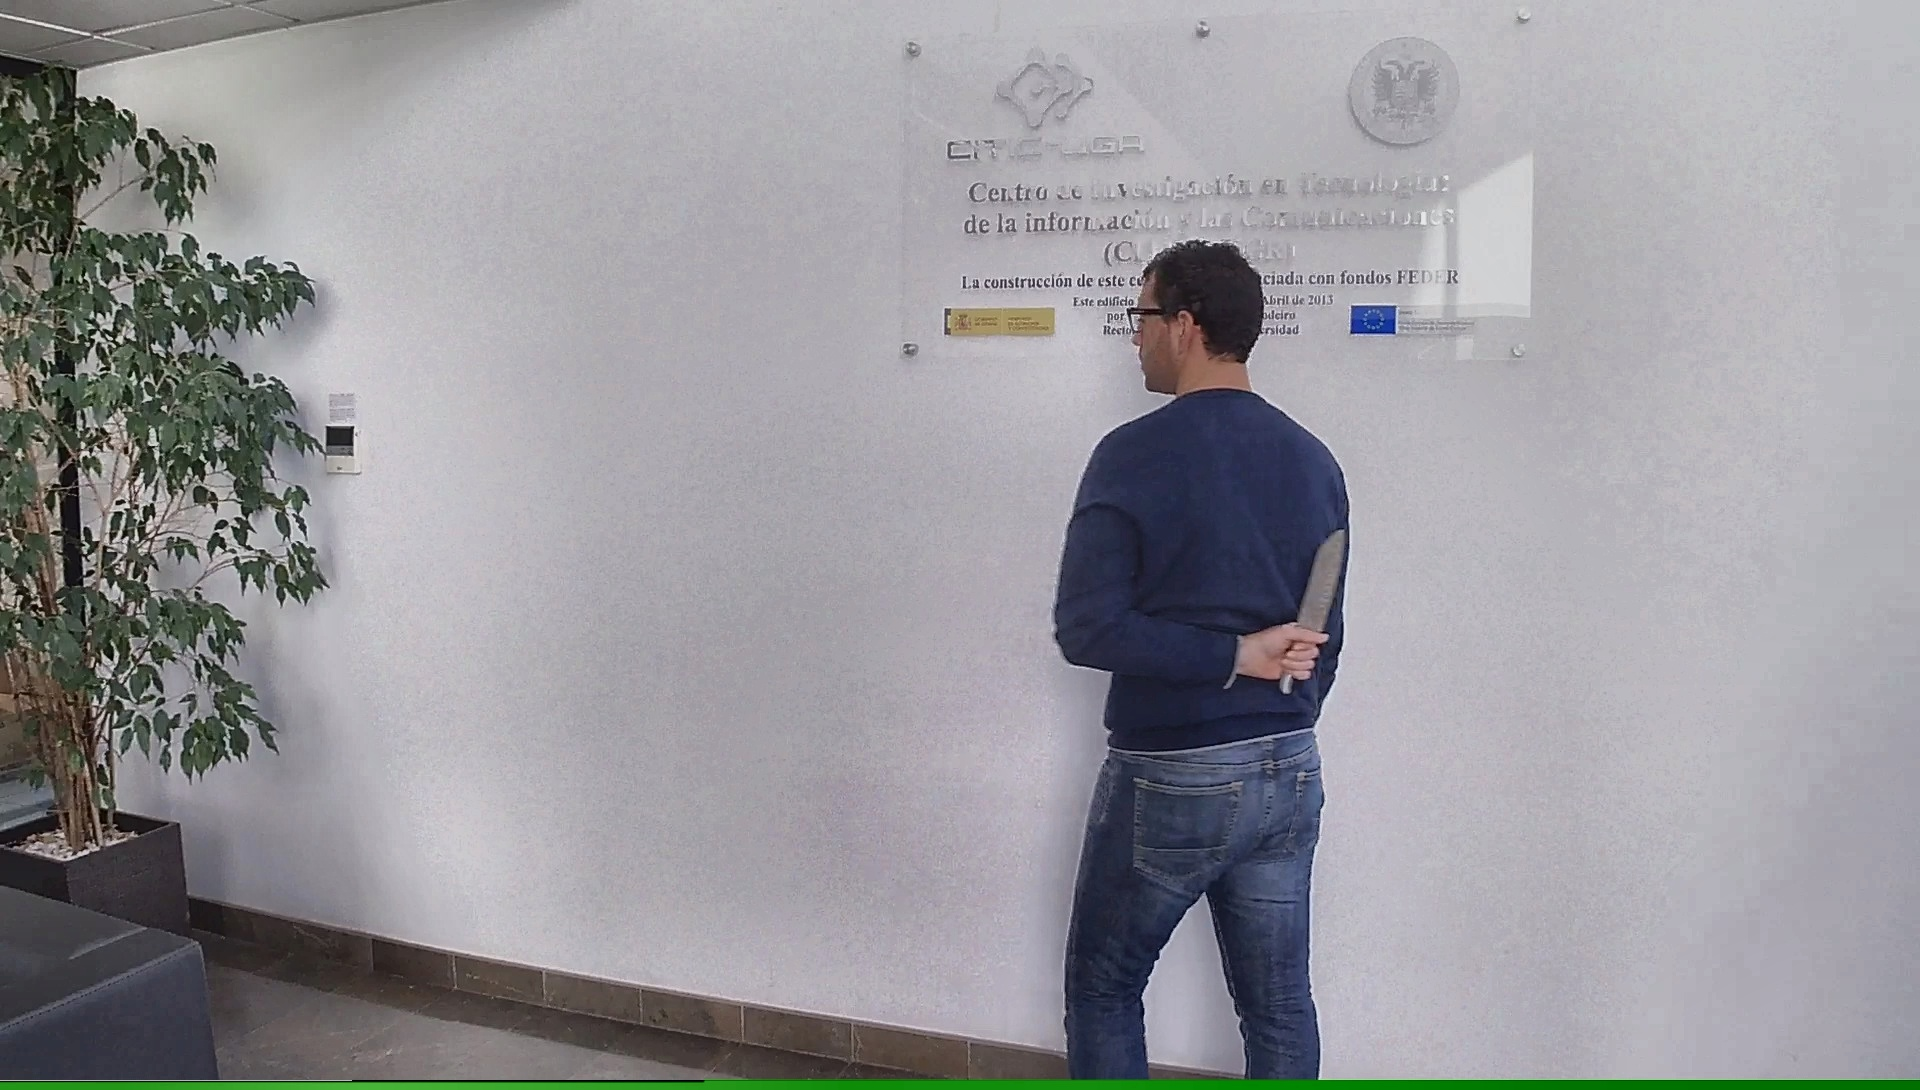knife: (1269, 518, 1357, 705)
